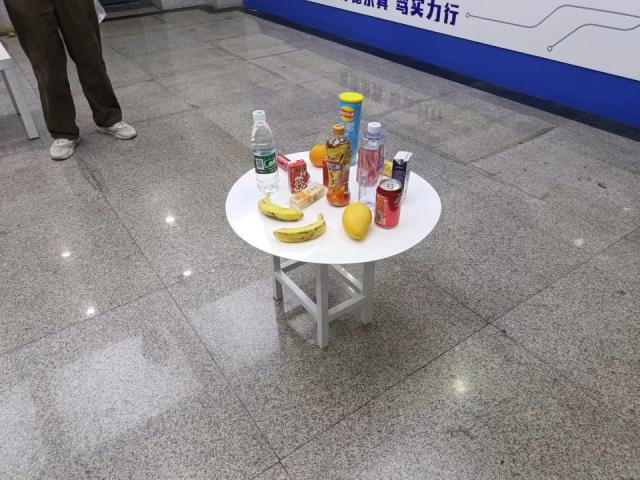Canned_drinks: (375, 178, 402, 230)
bottle: (357, 122, 388, 212), (249, 109, 281, 192)
cylinder: (336, 92, 362, 166)
drink_box: (391, 151, 413, 205), (286, 160, 309, 192), (323, 159, 336, 187)
